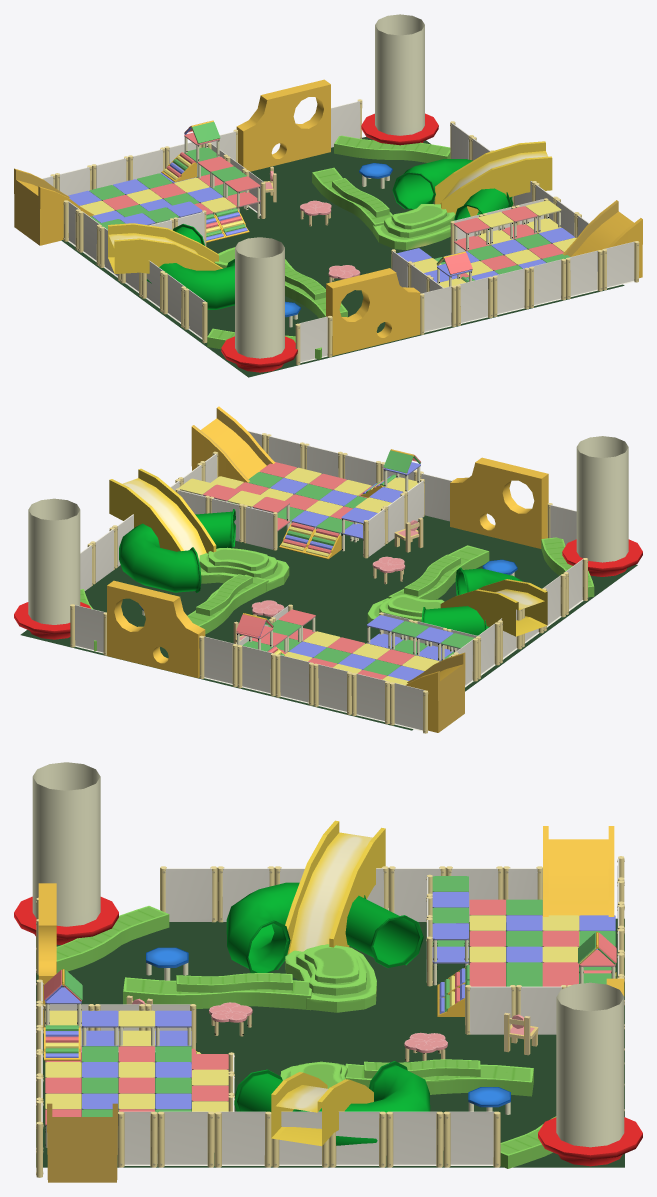
Rendered from Map_unwrap_0507.FBX.
3 renders of one model, top to bottom at view 1: azimuth 30°, elevation 25°; view 2: azimuth 150°, elevation 25°; view 3: azimuth 270°, elevation 25°, orthographic. The views are drawn at different scales.
Parts seen in each view (by area): view 1: Box290, Plane001, Cylinder031, Cylinder030, Cylinder009, Cylinder013, Box034, Box035, Box195, Box197, Box241, Box191 (+7 smaller); view 2: Box290, Plane001, Cylinder030, Cylinder009, Cylinder031, Cylinder013, Box035, Box034, Box241, Box195, Box197, Box191 (+7 smaller); view 3: Box290, Plane001, Cylinder009, Cylinder013, Cylinder031, Cylinder030, Box241, Box195, Box197, Box191, Box262, Box128 (+6 smaller).
Boxes of the visible parts, left/top/right/bottom form: Box290: left=41, top=99, right=639, bottom=364; Plane001: left=61, top=137, right=624, bottom=377; Cylinder031: left=312, top=14, right=450, bottom=232; Cylinder030: left=373, top=141, right=552, bottom=250; Cylinder009: left=207, top=237, right=347, bottom=372; Cylinder013: left=108, top=223, right=234, bottom=309; Box034: left=236, top=79, right=330, bottom=171; Box035: left=326, top=268, right=420, bottom=355; Box195: left=103, top=132, right=563, bottom=278; Box197: left=80, top=177, right=576, bottom=287; Box241: left=68, top=172, right=574, bottom=286; Box191: left=89, top=147, right=569, bottom=280; Box290: left=70, top=430, right=588, bottom=733; Plane001: left=20, top=515, right=637, bottom=730; Cylinder030: left=109, top=468, right=289, bottom=592; Cylinder009: left=388, top=436, right=642, bottom=599; Cylinder031: left=14, top=498, right=268, bottom=651; Cylinder013: left=367, top=567, right=547, bottom=636; Box035: left=450, top=457, right=548, bottom=548; Box034: left=107, top=580, right=205, bottom=678; Box241: left=195, top=462, right=453, bottom=680; Box195: left=203, top=462, right=414, bottom=679; Box197: left=178, top=467, right=439, bottom=685; Box191: left=220, top=472, right=475, bottom=675; Box290: left=36, top=856, right=624, bottom=1177; Plane001: left=36, top=918, right=624, bottom=1167; Cylinder009: left=14, top=762, right=311, bottom=1010; Cylinder013: left=226, top=820, right=423, bottom=1012; Cylinder031: left=345, top=982, right=642, bottom=1168; Cylinder030: left=234, top=1061, right=430, bottom=1146; Box241: left=45, top=892, right=615, bottom=1163; Box195: left=45, top=899, right=615, bottom=1147; Box197: left=45, top=915, right=578, bottom=1129; Box191: left=82, top=876, right=615, bottom=1116; Box262: left=543, top=826, right=614, bottom=946; Box128: left=47, top=1103, right=117, bottom=1182.
Size of the model in its own units: 4525 by 1193 by 4271.
